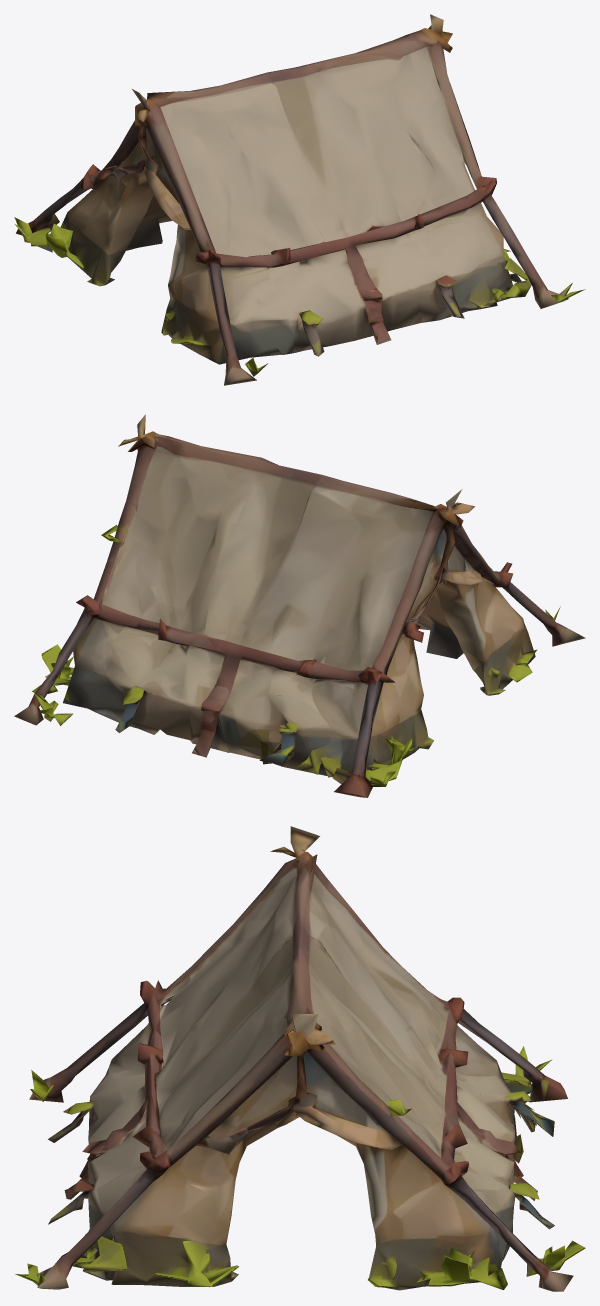
Rendered from tent.glb.
The picture shows the model from 3 angles, top to bottom: view 1: azimuth 30°, elevation 25°; view 2: azimuth 150°, elevation 25°; view 3: azimuth 270°, elevation 25°; orthographic projection. The views are drawn at different scales.
Parts seen in each view (by area): view 1: tripo_node_9a96e0b4-0af6-473a-92ed-796399b0cd16; view 2: tripo_node_9a96e0b4-0af6-473a-92ed-796399b0cd16; view 3: tripo_node_9a96e0b4-0af6-473a-92ed-796399b0cd16.
Boxes of the visible parts, x1,y1,x2,y2 form: tripo_node_9a96e0b4-0af6-473a-92ed-796399b0cd16: (14,14,585,385); tripo_node_9a96e0b4-0af6-473a-92ed-796399b0cd16: (14,414,585,797); tripo_node_9a96e0b4-0af6-473a-92ed-796399b0cd16: (15,826,585,1291).
Bounding box in the file's own units: 0.9183 × 0.5462 × 1.
Materials: 1 (1 with a texture image).
